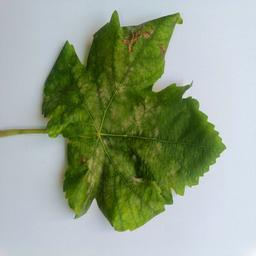Powdery-Mildew: (115, 196, 158, 228), (78, 144, 104, 189), (96, 77, 130, 108), (120, 25, 155, 54), (114, 149, 142, 185)
